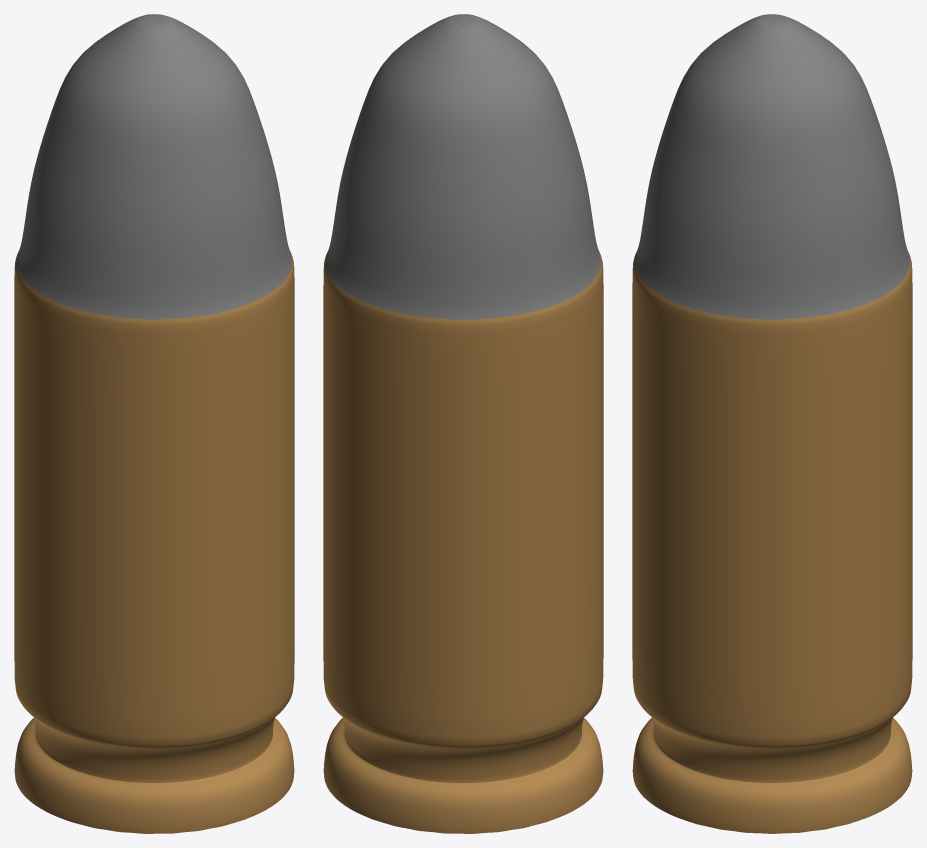
The model's file is bullet.fbx.
The picture shows the model from 3 angles, left to right: view 1: azimuth 30°, elevation 25°; view 2: azimuth 150°, elevation 25°; view 3: azimuth 270°, elevation 25°; orthographic projection.
Visible parts, largest first — view 1: bullet; view 2: bullet; view 3: bullet.
Part boxes in pixels (box(x1,y1,x2,y2)): bullet: box(14, 14, 294, 833); bullet: box(323, 14, 603, 833); bullet: box(632, 14, 912, 833).
Size of the model in its own units: 0.1079 by 0.3218 by 0.1079.
